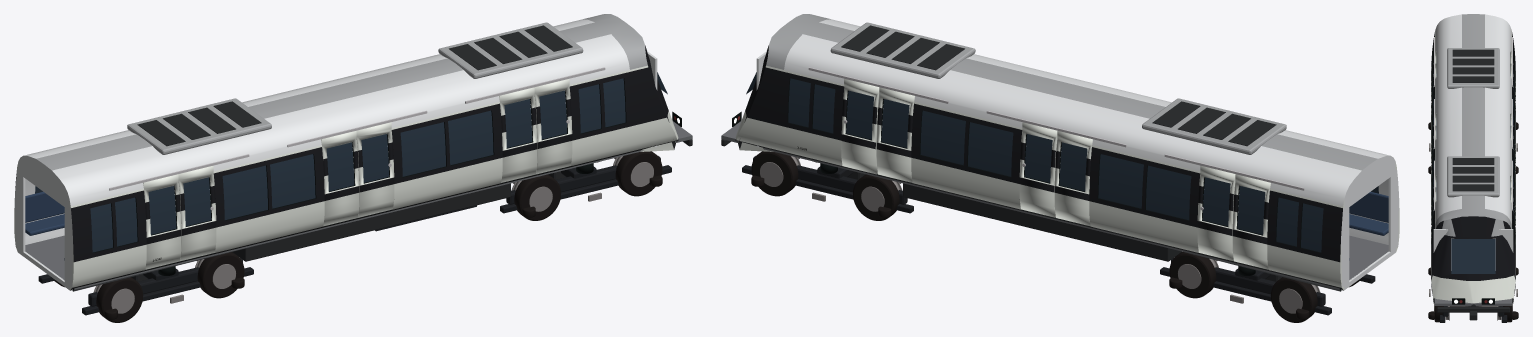
Rendered from mp05__cab.glb.
3 views of the same model, side by side, from view 1: azimuth 30°, elevation 25°; view 2: azimuth 150°, elevation 25°; view 3: azimuth 270°, elevation 25° (orthographic). The views are drawn at different scales.
Visible parts, largest first — view 1: mp05_cab; view 2: mp05_cab; view 3: mp05_cab.
Part boxes in pixels (box(x1,y1,x2,y2)): mp05_cab: box(14, 14, 692, 322); mp05_cab: box(721, 14, 1399, 322); mp05_cab: box(1428, 14, 1518, 322).
Size of the model in its own units: 15.05 by 3.49 by 2.6.
Materials: 9 (4 with a texture image).
